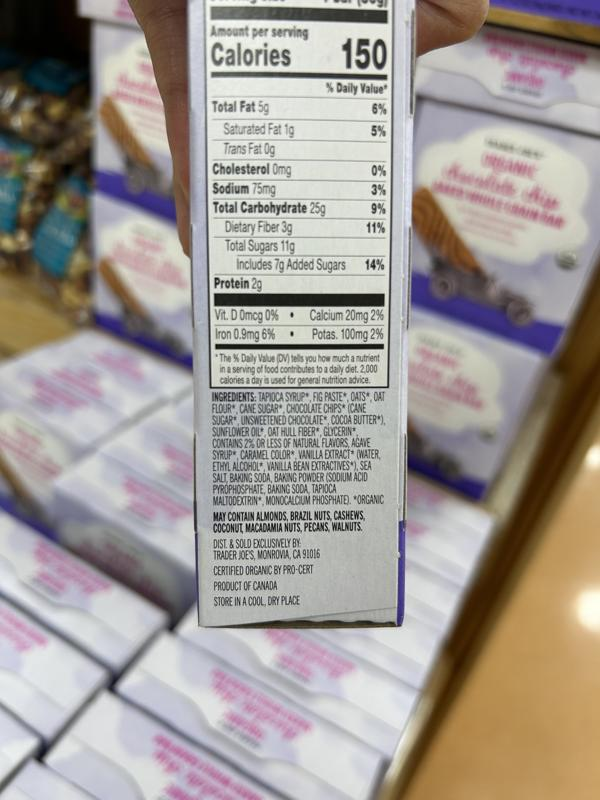ingredients: (208, 389, 389, 508)
